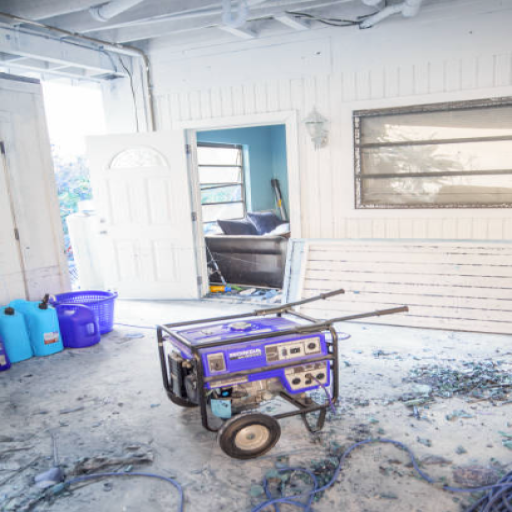portable_generator: (157, 307, 340, 432)
